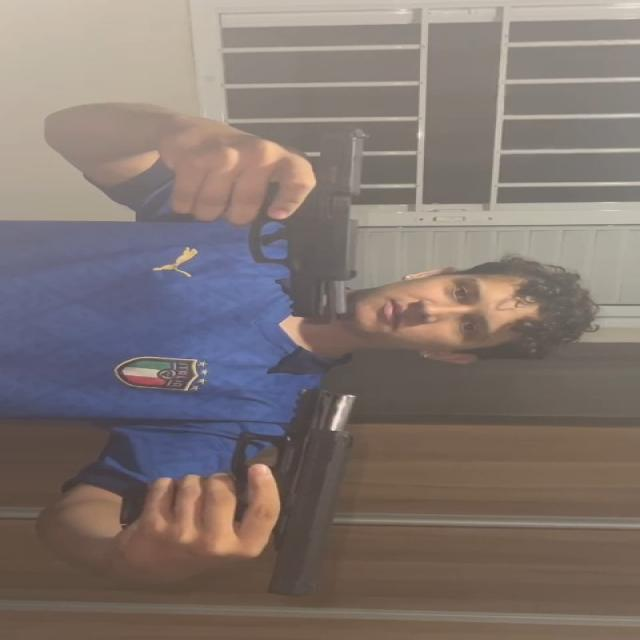gun: (222, 382, 361, 598), (245, 126, 378, 320)
